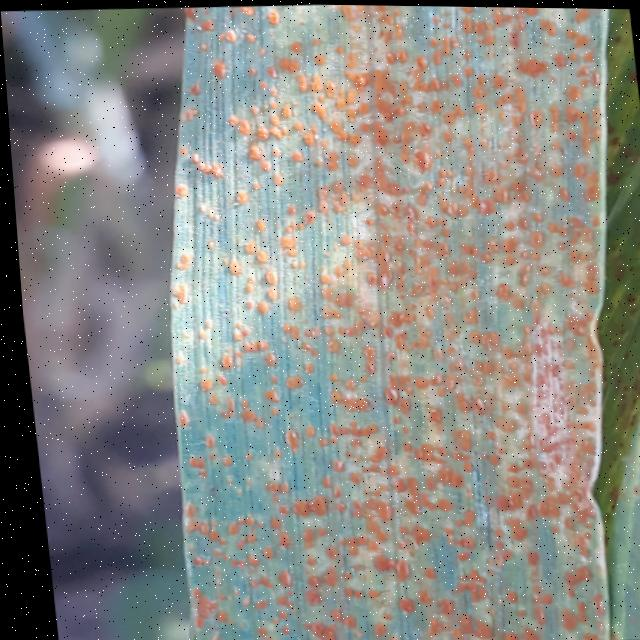orang_rust: (129, 2, 640, 640)
